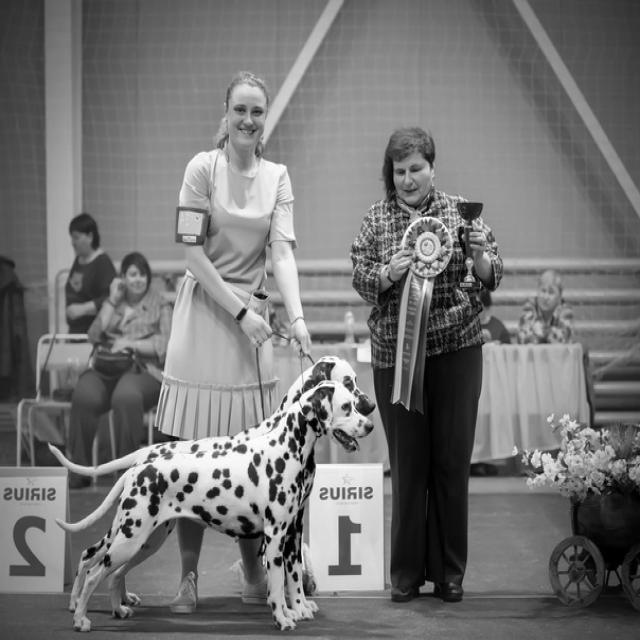Dogs: (47, 353, 374, 618), (53, 380, 376, 636)
